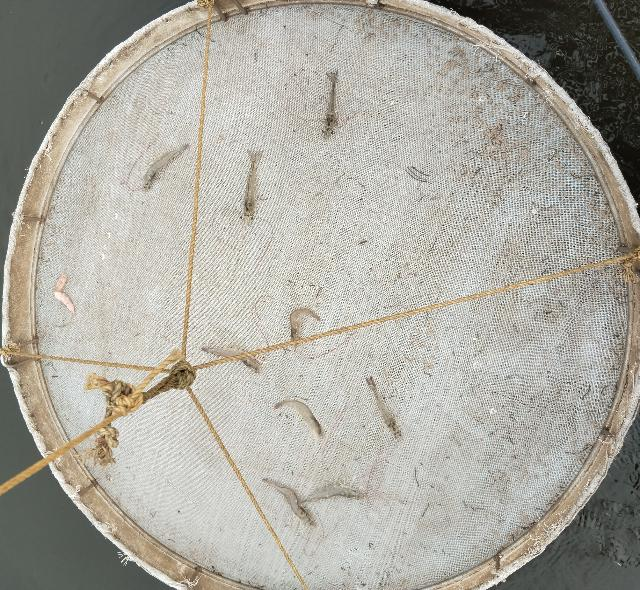shrimp: (261, 479, 317, 532), (364, 376, 405, 447), (140, 144, 188, 194), (274, 401, 324, 442), (239, 148, 263, 228), (201, 348, 265, 377), (322, 70, 339, 141), (300, 485, 366, 503), (289, 309, 320, 345), (53, 274, 75, 315)
